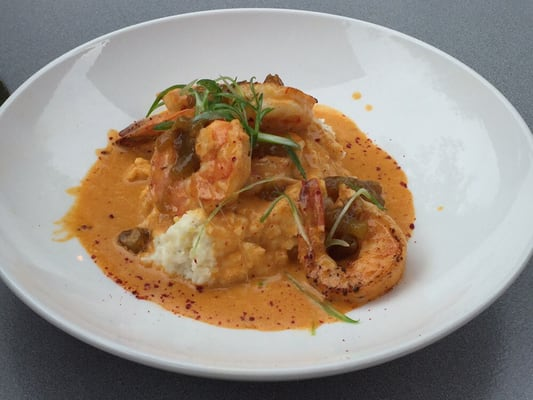curry: (11, 4, 533, 399)
